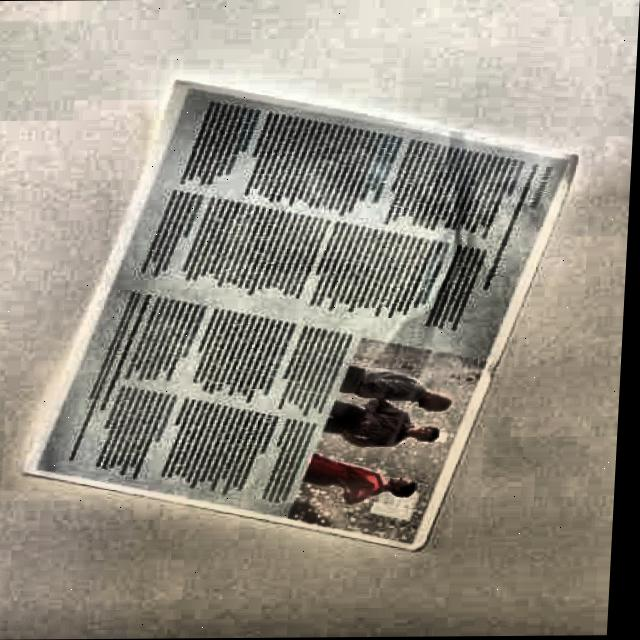paper: (15, 75, 586, 555)
